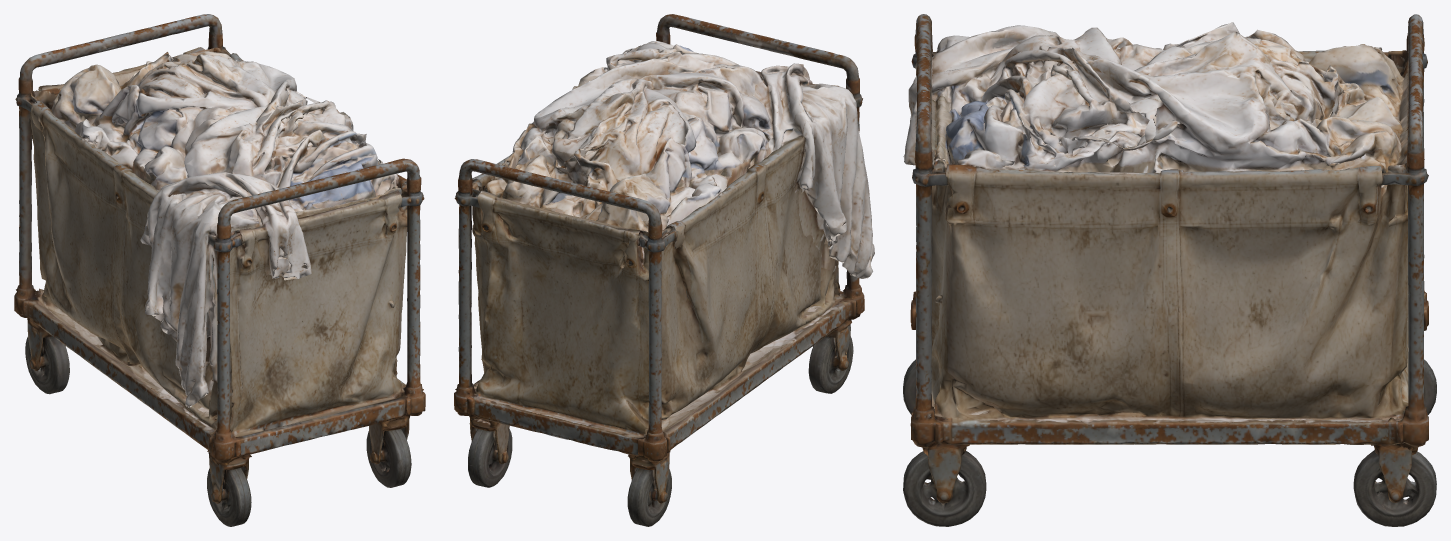
Rendered from LaundryCart.fbx.
The picture shows the model from 3 angles, left to right: view 1: azimuth 30°, elevation 25°; view 2: azimuth 150°, elevation 25°; view 3: azimuth 270°, elevation 25°; orthographic projection. The views are drawn at different scales.
Visible parts, largest first — view 1: texture_mapping; view 2: texture_mapping; view 3: texture_mapping.
Part boxes in pixels (bbox=[...]): texture_mapping: bbox=[14, 14, 425, 526]; texture_mapping: bbox=[454, 14, 874, 526]; texture_mapping: bbox=[903, 14, 1436, 526].
Size of the model in its own units: 0.6453 by 1 by 0.9289.
1 material, 1 textured.
